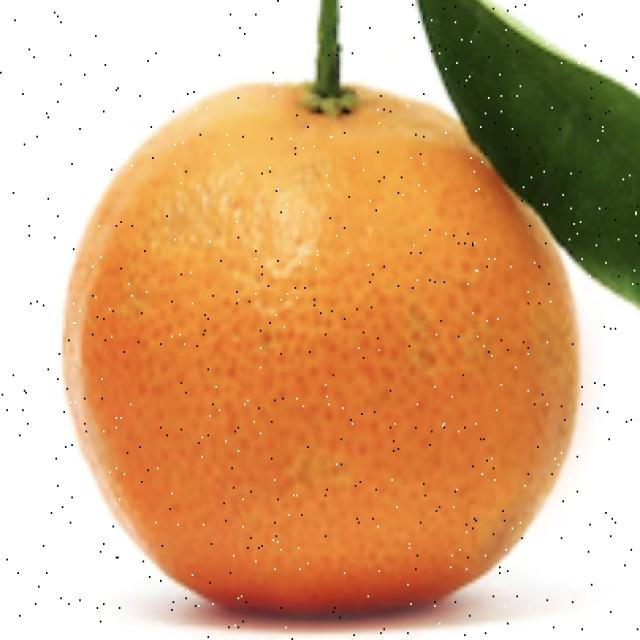orange: (68, 63, 595, 636)
